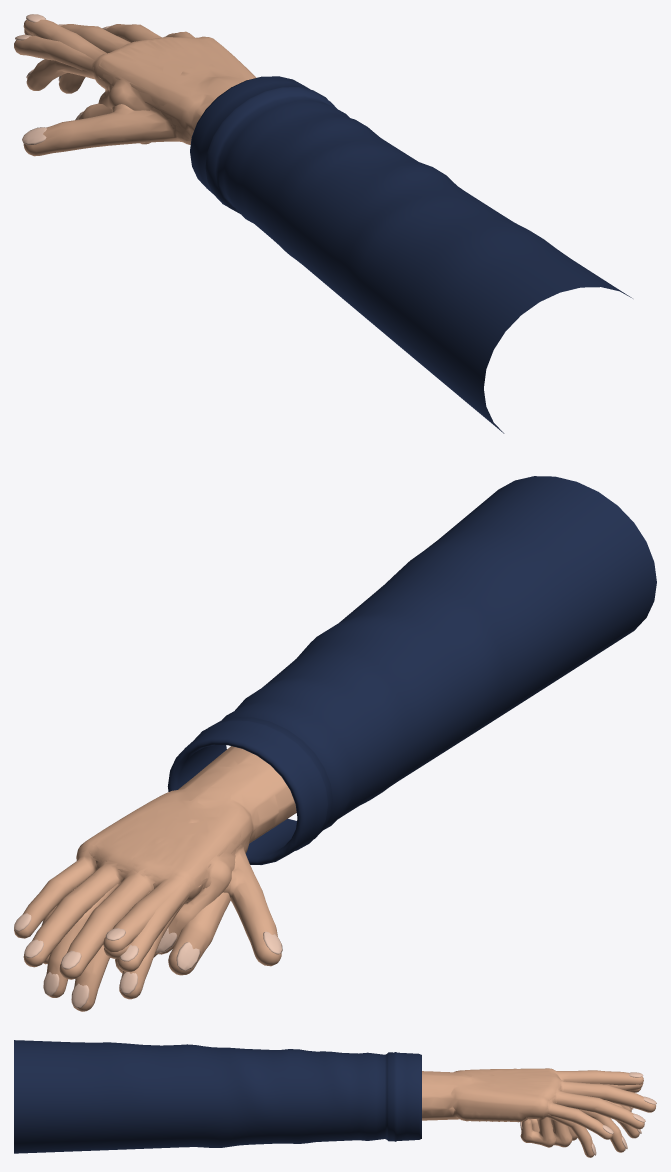
File: hand.glb
The picture shows the model from 3 angles, top to bottom: view 1: azimuth 30°, elevation 25°; view 2: azimuth 150°, elevation 25°; view 3: azimuth 270°, elevation 25°; orthographic projection. The views are drawn at different scales.
Visible parts, largest first — view 1: hand_idle, hand_reach, hand_point, hand_press; view 2: hand_idle, hand_reach, hand_point, hand_press; view 3: hand_idle, hand_reach, hand_point, hand_press.
Part boxes in pixels (<box>): hand_idle: <box>26,36,632,433</box>; hand_reach: <box>14,24,248,156</box>; hand_point: <box>23,14,255,144</box>; hand_press: <box>24,29,255,144</box>; hand_idle: <box>41,476,656,1011</box>; hand_reach: <box>14,749,282,979</box>; hand_point: <box>77,746,264,973</box>; hand_press: <box>77,747,262,972</box>; hand_idle: <box>14,1040,641,1157</box>; hand_reach: <box>422,1068,656,1139</box>; hand_point: <box>422,1068,643,1147</box>; hand_press: <box>422,1068,643,1147</box>.
Bounding box in the file's own units: 0.155 × 0.1024 × 0.599.
